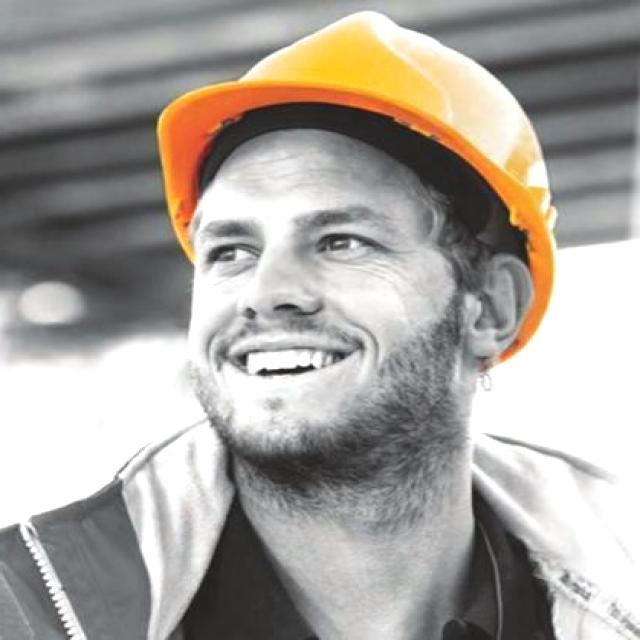face_nomask: (168, 146, 467, 449)
head_helmet: (130, 14, 594, 353)
person: (9, 1, 623, 638)
